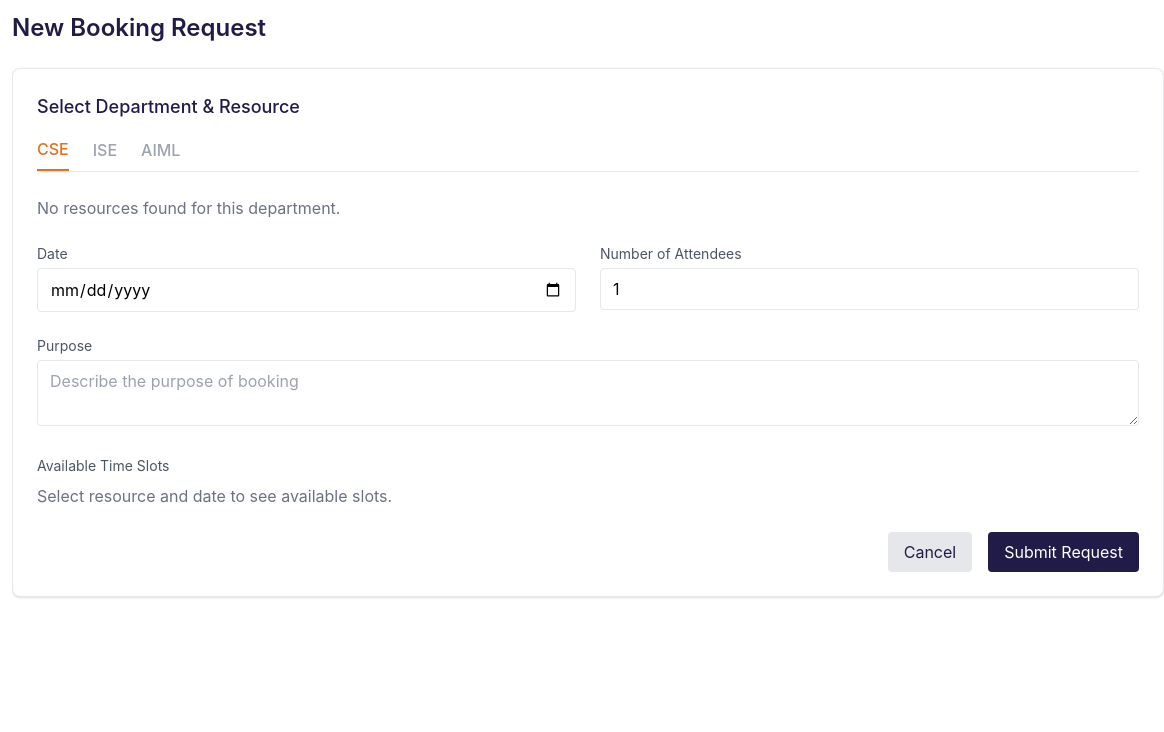
Test case: New Booking Page › shows available time slots when resource and date are selected
Note: Click on CSE department tab
Click the button "CSE" at coordinates (53, 154), box x1=37 y1=137 x2=69 y2=171
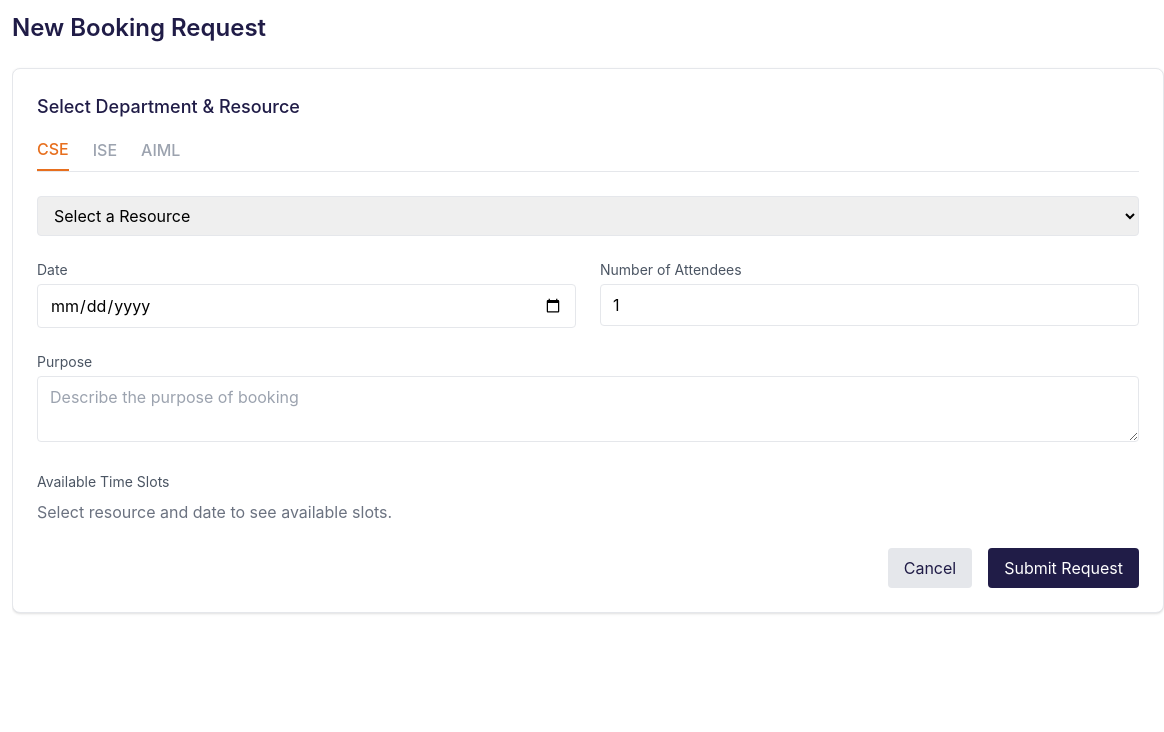
Note: Wait for resource select to appear
Select "Resource 1" in the dropdown at coordinates (588, 216), box x1=37 y1=196 x2=1139 y2=236
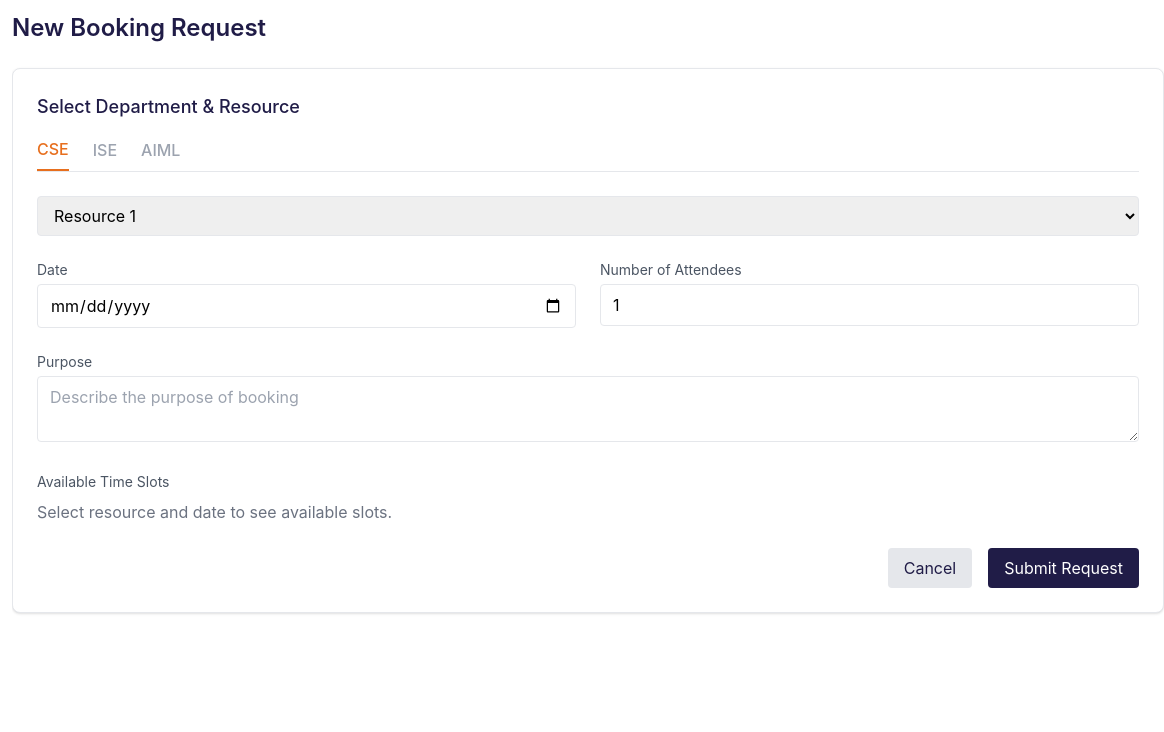
Note: Select date
Type "2024-03-20" into the date field labelled "Date" at coordinates (306, 306), box x1=37 y1=284 x2=576 y2=328
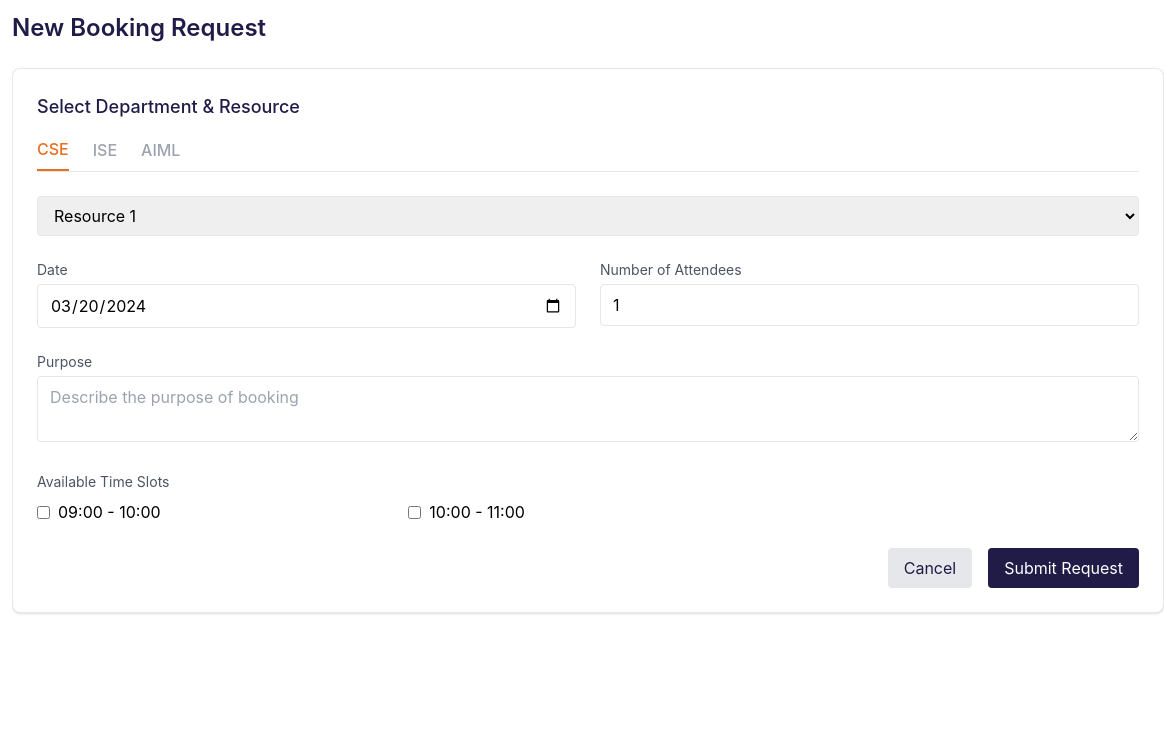
Expected: the text "09:00 - 10:00" is shown, x1=58 y1=500 x2=161 y2=524
Expected: the text "10:00 - 11:00" is shown, x1=429 y1=500 x2=525 y2=524
